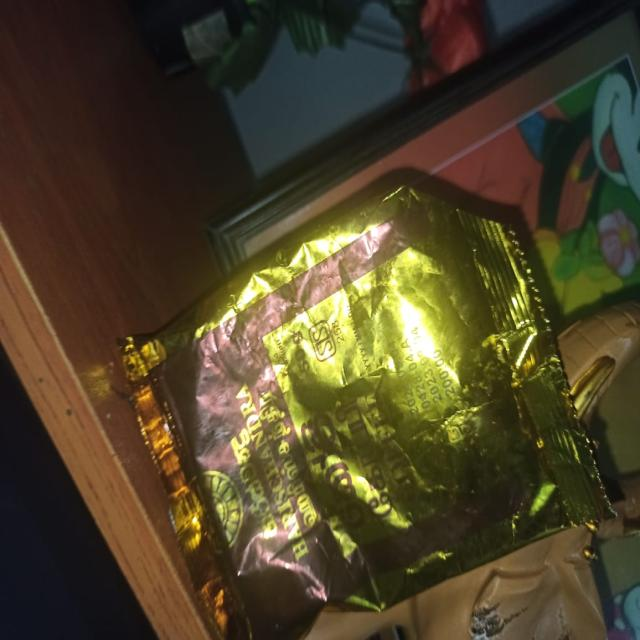Harischandra Coffee: (110, 221, 604, 640)
